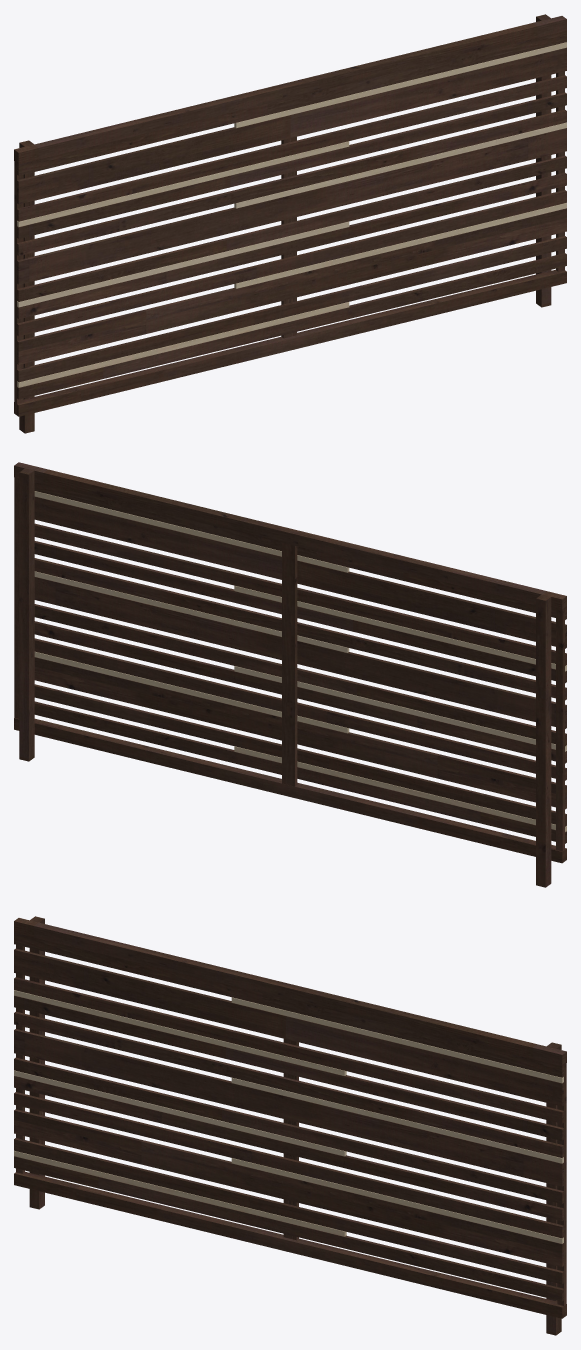
File: everartfencekorabo_920-1998_darkpine-springoak.fbx
3 views of the same model, one above another, from view 1: azimuth 30°, elevation 25°; view 2: azimuth 150°, elevation 25°; view 3: azimuth 330°, elevation 25° (orthographic).
Parts seen in each view (by area): view 1: everartfencekorabo_920-1998_darkpine-springoak; view 2: everartfencekorabo_920-1998_darkpine-springoak; view 3: everartfencekorabo_920-1998_darkpine-springoak.
Boxes of the visible parts, <box> form: everartfencekorabo_920-1998_darkpine-springoak: <box>14,14,566,433</box>; everartfencekorabo_920-1998_darkpine-springoak: <box>14,462,566,887</box>; everartfencekorabo_920-1998_darkpine-springoak: <box>14,916,566,1335</box>.
Size of the model in its own units: 200 by 100 by 6.5.
Materials: 2 (2 with a texture image).
